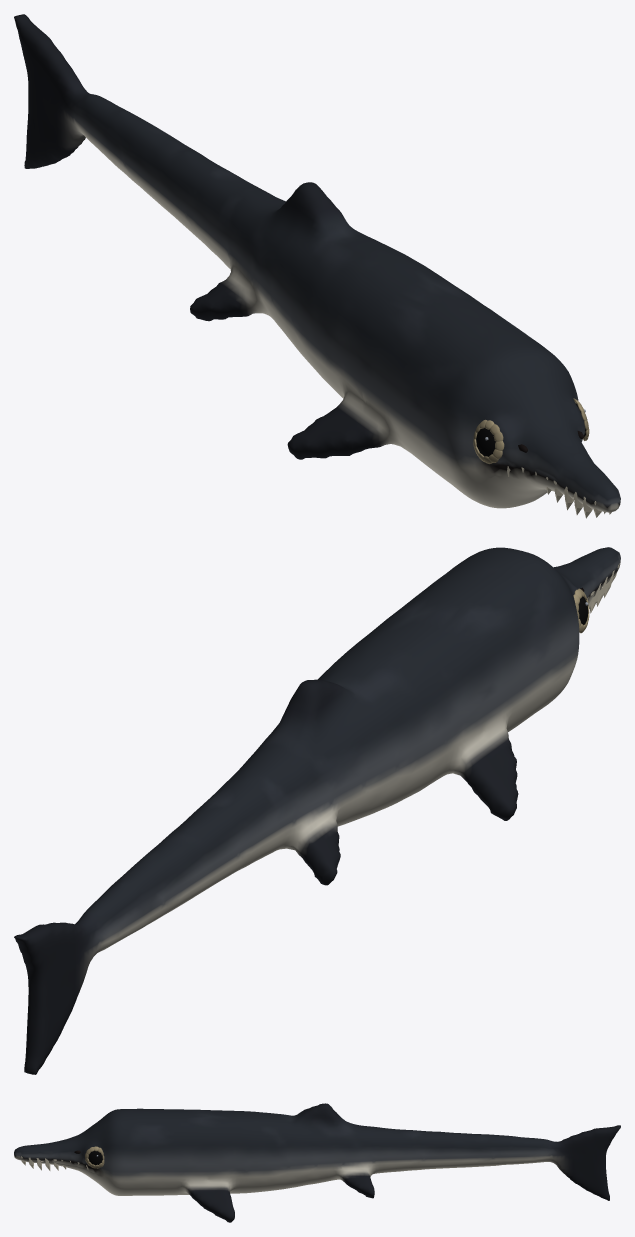
Rendered from Thalattoarchon.fbx.
3 renders of one model, top to bottom at view 1: azimuth 30°, elevation 25°; view 2: azimuth 150°, elevation 25°; view 3: azimuth 270°, elevation 25°, orthographic. The views are drawn at different scales.
Visible parts, largest first — view 1: Thalattoarchon; view 2: Thalattoarchon; view 3: Thalattoarchon.
Boxes of the visible parts, left/top/right/bottom form: Thalattoarchon: left=14, top=14, right=620, bottom=518; Thalattoarchon: left=14, top=547, right=620, bottom=1074; Thalattoarchon: left=14, top=1103, right=620, bottom=1222.
Size of the model in its own units: 0.4096 by 0.3275 by 1.88.
